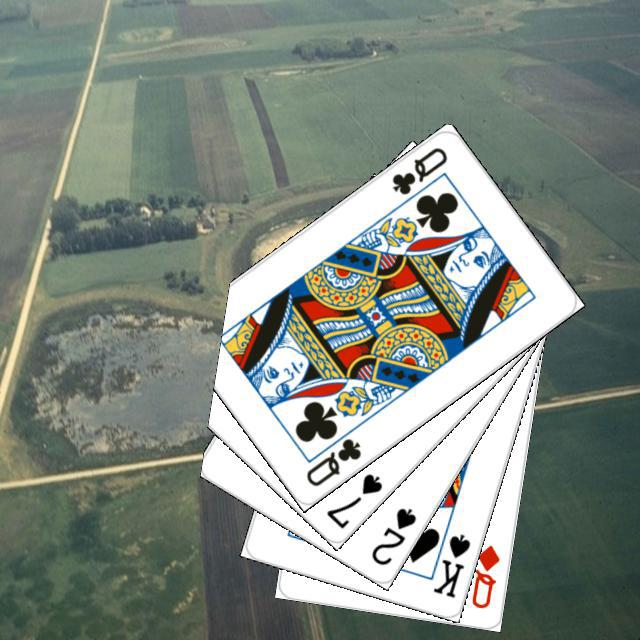2s: (366, 502, 419, 567)
7s: (321, 468, 385, 531)
Ks: (428, 529, 472, 600)
Qc: (300, 421, 364, 489), (386, 142, 449, 197)
Qd: (466, 540, 501, 610)
